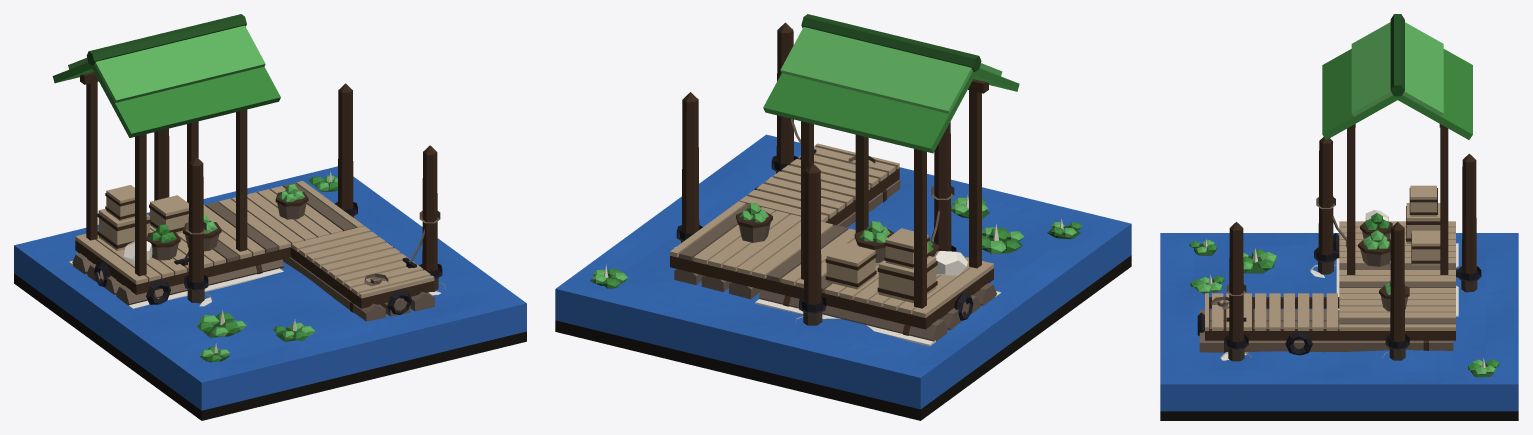
Rendered from floating_docks.glb.
The picture shows the model from 3 angles, left to right: view 1: azimuth 30°, elevation 25°; view 2: azimuth 150°, elevation 25°; view 3: azimuth 270°, elevation 25°; orthographic projection. The views are drawn at different scales.
Parts seen in each view (by area): view 1: water-sky-blue, deck-bright-boat-colours, canopy-palm-green-light, piles-dark-wood, canopy-palm-green, canopy-dark-wood, water-muddy-brown-dark, floats-muddy-brown-light, frame-dark-wood, cargo-bright-boat-colours, canopy-palm-green-dark, deck-muddy-brown-light (+8 smaller); view 2: water-sky-blue, deck-bright-boat-colours, canopy-palm-green-light, canopy-palm-green, piles-dark-wood, water-muddy-brown-dark, canopy-dark-wood, frame-dark-wood, floats-muddy-brown-light, cargo-bright-boat-colours, canopy-palm-green-dark, cargo-dark-wood (+8 smaller); view 3: water-sky-blue, deck-bright-boat-colours, piles-dark-wood, canopy-palm-green-light, canopy-palm-green, water-muddy-brown-dark, floats-muddy-brown-light, canopy-dark-wood, frame-dark-wood, cargo-bright-boat-colours, deck-muddy-brown-light, cargo-dark-wood (+11 smaller).
Part boxes in pixels (left/top/right/bottom): water-sky-blue: left=14, top=166, right=526, bottom=410; deck-bright-boat-colours: left=75, top=181, right=434, bottom=298; canopy-palm-green-light: left=68, top=25, right=265, bottom=102; piles-dark-wood: left=154, top=83, right=437, bottom=282; canopy-palm-green: left=52, top=62, right=280, bottom=137; canopy-dark-wood: left=80, top=72, right=247, bottom=276; water-muddy-brown-dark: left=14, top=273, right=526, bottom=420; floats-muddy-brown-light: left=72, top=253, right=434, bottom=321; frame-dark-wood: left=75, top=240, right=434, bottom=308; cargo-bright-boat-colours: left=98, top=185, right=188, bottom=250; canopy-palm-green-dark: left=86, top=14, right=246, bottom=65; deck-muddy-brown-light: left=205, top=183, right=355, bottom=262; water-sky-blue: left=555, top=134, right=1131, bottom=409; deck-bright-boat-colours: left=670, top=143, right=993, bottom=317; canopy-palm-green-light: left=780, top=27, right=1002, bottom=113; canopy-palm-green: left=763, top=68, right=1019, bottom=153; piles-dark-wood: left=682, top=22, right=951, bottom=304; water-muddy-brown-dark: left=555, top=255, right=1131, bottom=420; canopy-dark-wood: left=801, top=79, right=988, bottom=308; frame-dark-wood: left=670, top=168, right=993, bottom=329; floats-muddy-brown-light: left=674, top=179, right=996, bottom=341; cargo-bright-boat-colours: left=826, top=228, right=936, bottom=303; canopy-palm-green-dark: left=801, top=14, right=981, bottom=71; cargo-dark-wood: left=736, top=212, right=939, bottom=300; water-sky-blue: left=1160, top=233, right=1518, bottom=411; deck-bright-boat-colours: left=1205, top=221, right=1455, bottom=330; piles-dark-wood: left=1229, top=137, right=1476, bottom=342; canopy-palm-green-light: left=1351, top=22, right=1443, bottom=116; canopy-palm-green: left=1322, top=49, right=1472, bottom=139; water-muddy-brown-dark: left=1160, top=411, right=1518, bottom=420; floats-muddy-brown-light: left=1199, top=310, right=1453, bottom=352; canopy-dark-wood: left=1347, top=124, right=1448, bottom=274; frame-dark-wood: left=1205, top=297, right=1455, bottom=340; cargo-bright-boat-colours: left=1406, top=185, right=1440, bottom=265; deck-muddy-brown-light: left=1339, top=263, right=1455, bottom=324; cargo-dark-wood: left=1358, top=188, right=1440, bottom=298.
Bounding box in the file's own units: 4 × 3.22 × 4.
